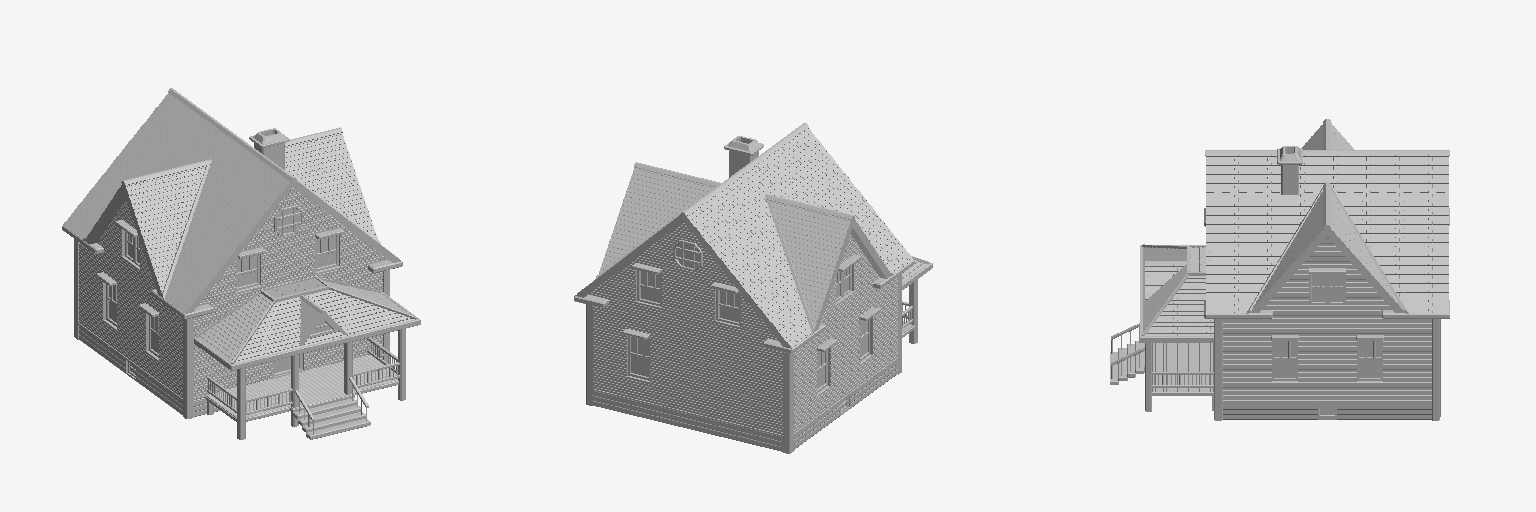
File: maqdy.obj
3 views of the same model, side by side, from view 1: azimuth 30°, elevation 25°; view 2: azimuth 150°, elevation 25°; view 3: azimuth 270°, elevation 25° (orthographic).
Parts seen in each view (by area): view 1: home.1_Mesh_0; view 2: home.1_Mesh_0; view 3: home.1_Mesh_0.
Boxes of the visible parts, <box> form: home.1_Mesh_0: <box>62,88,420,439</box>; home.1_Mesh_0: <box>574,123,932,453</box>; home.1_Mesh_0: <box>1110,119,1449,420</box>.
Size of the model in its own units: 0.6046 by 0.6065 by 0.8156.